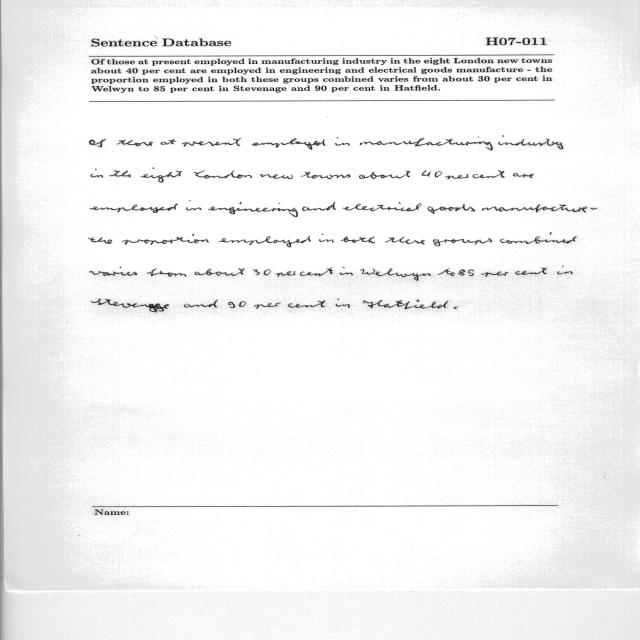word: (360, 137, 493, 151), (208, 202, 298, 217), (91, 299, 169, 313), (219, 236, 311, 247), (122, 234, 209, 245), (482, 204, 587, 213), (360, 268, 431, 281), (500, 232, 576, 244), (90, 203, 178, 213), (252, 138, 325, 150), (363, 300, 448, 310), (499, 136, 564, 149), (343, 202, 421, 211), (141, 168, 182, 183), (182, 138, 241, 147), (433, 238, 492, 247), (194, 170, 252, 179), (428, 204, 475, 214), (359, 170, 411, 179), (89, 267, 137, 276), (195, 268, 245, 276), (147, 268, 186, 277), (301, 172, 350, 179), (302, 202, 336, 211), (300, 267, 333, 276), (288, 300, 325, 308), (385, 237, 425, 244), (184, 300, 218, 308), (473, 170, 505, 178), (516, 267, 547, 275), (341, 237, 375, 244), (117, 140, 153, 146), (259, 174, 293, 179), (254, 303, 281, 309), (89, 237, 112, 244), (186, 201, 202, 211), (110, 171, 131, 178), (422, 171, 442, 178), (481, 272, 509, 277), (336, 298, 350, 308), (89, 139, 106, 147), (438, 268, 455, 276), (335, 137, 350, 146), (228, 301, 246, 308), (445, 174, 469, 179), (319, 234, 334, 242), (276, 271, 296, 277), (557, 266, 572, 274), (252, 270, 271, 276), (458, 269, 474, 276), (91, 169, 103, 178), (513, 173, 534, 178), (340, 267, 353, 275), (161, 139, 176, 145), (591, 208, 597, 210), (454, 306, 457, 309)
